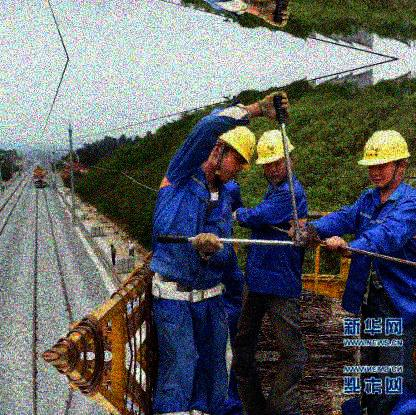helmet: (202, 121, 256, 184), (357, 130, 414, 185), (254, 128, 295, 183)
